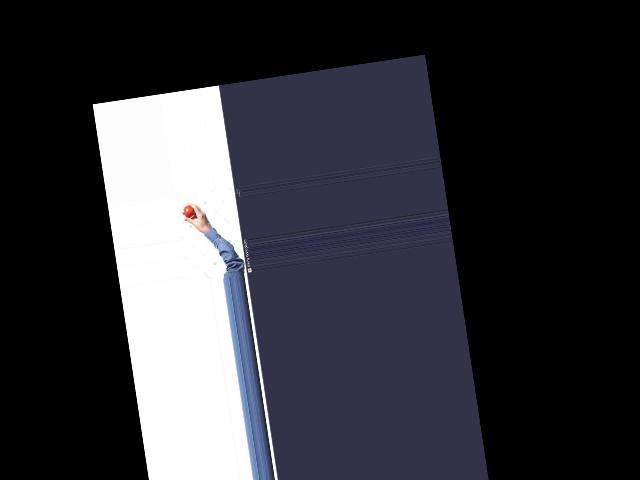tomato: (183, 204, 194, 217)
